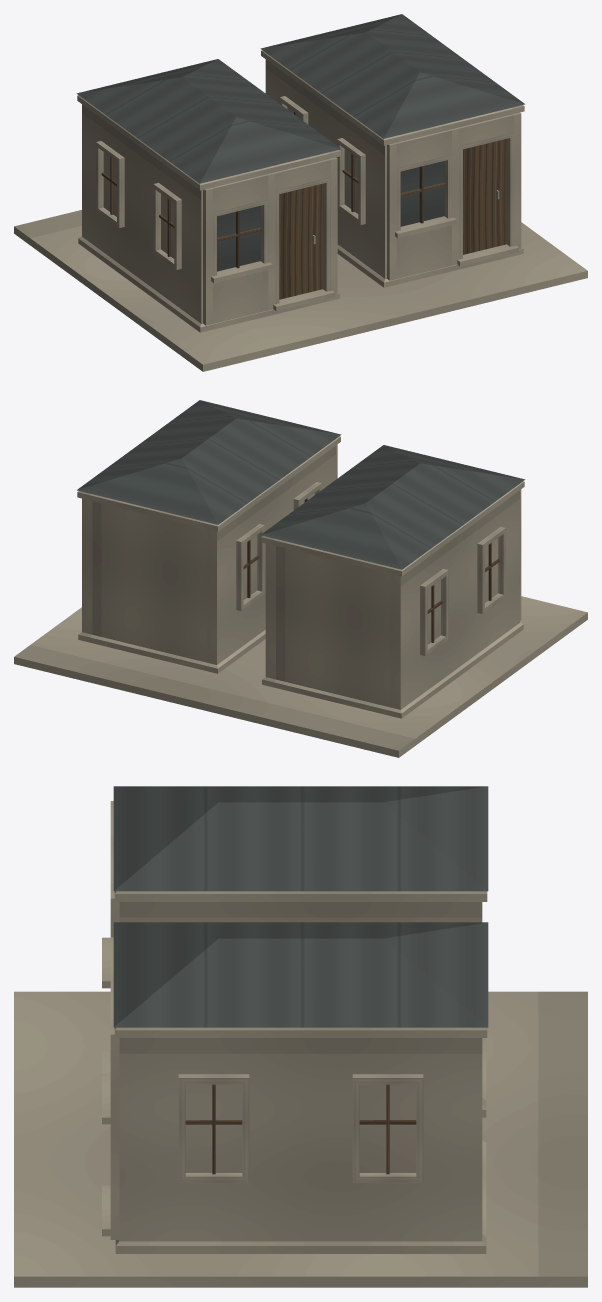
The picture shows the model from 3 angles, top to bottom: view 1: azimuth 30°, elevation 25°; view 2: azimuth 150°, elevation 25°; view 3: azimuth 270°, elevation 25°; orthographic projection. The views are drawn at different scales.
Visible parts, largest first — view 1: brades; view 2: brades; view 3: brades.
Boxes of the visible parts, bbox=[...] form: brades: bbox=[14, 14, 587, 371]; brades: bbox=[14, 400, 587, 757]; brades: bbox=[14, 786, 587, 1287].
Size of the model in its own units: 6.68 by 3 by 5.68.
1 material, 1 textured.
